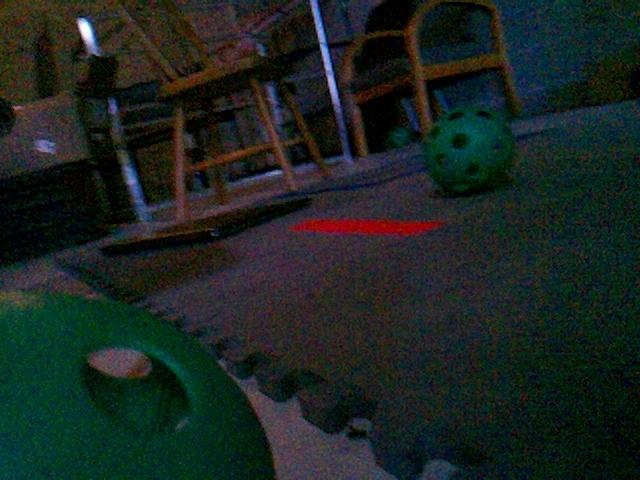Green: (2, 290, 277, 480), (420, 104, 514, 194), (383, 124, 416, 150)
